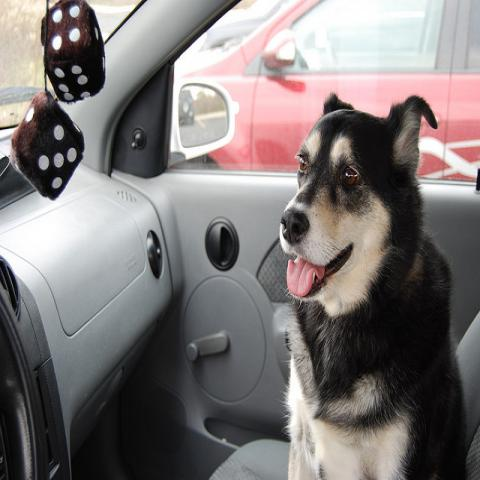car: (0, 1, 479, 476), (174, 0, 480, 188), (178, 90, 195, 124)
